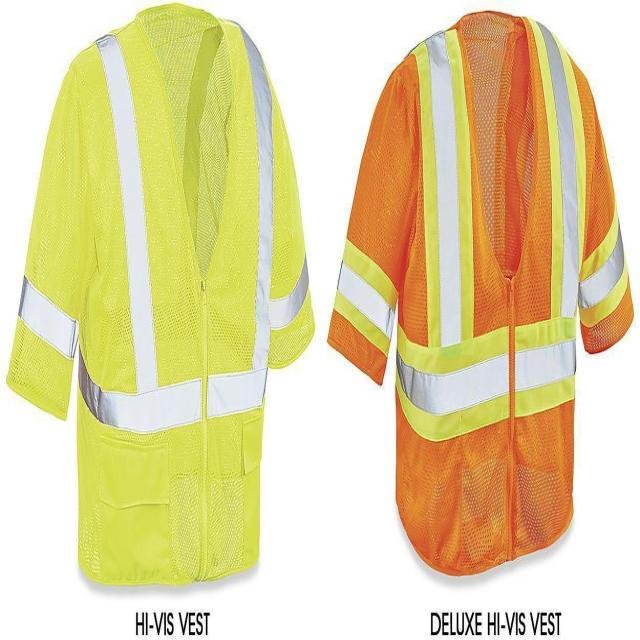vest: (6, 0, 319, 587), (324, 0, 634, 578)
